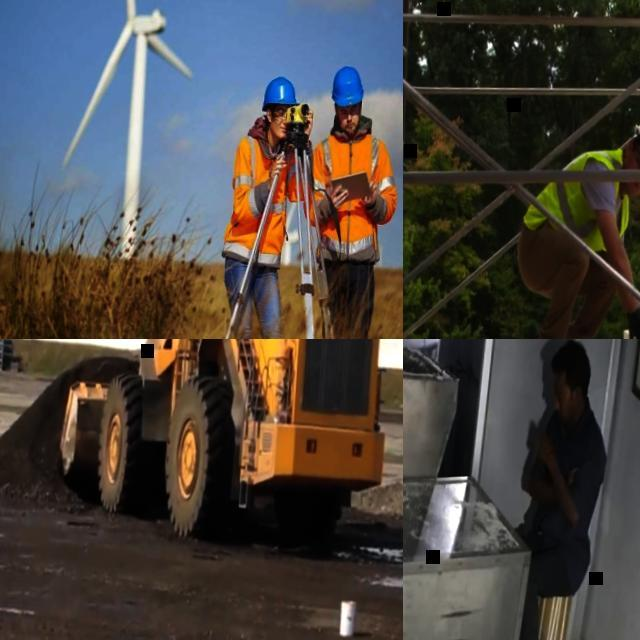helmet: (330, 66, 366, 107), (262, 76, 302, 112), (631, 118, 640, 183)
vest: (520, 140, 634, 252), (306, 130, 397, 254), (220, 132, 298, 266)
